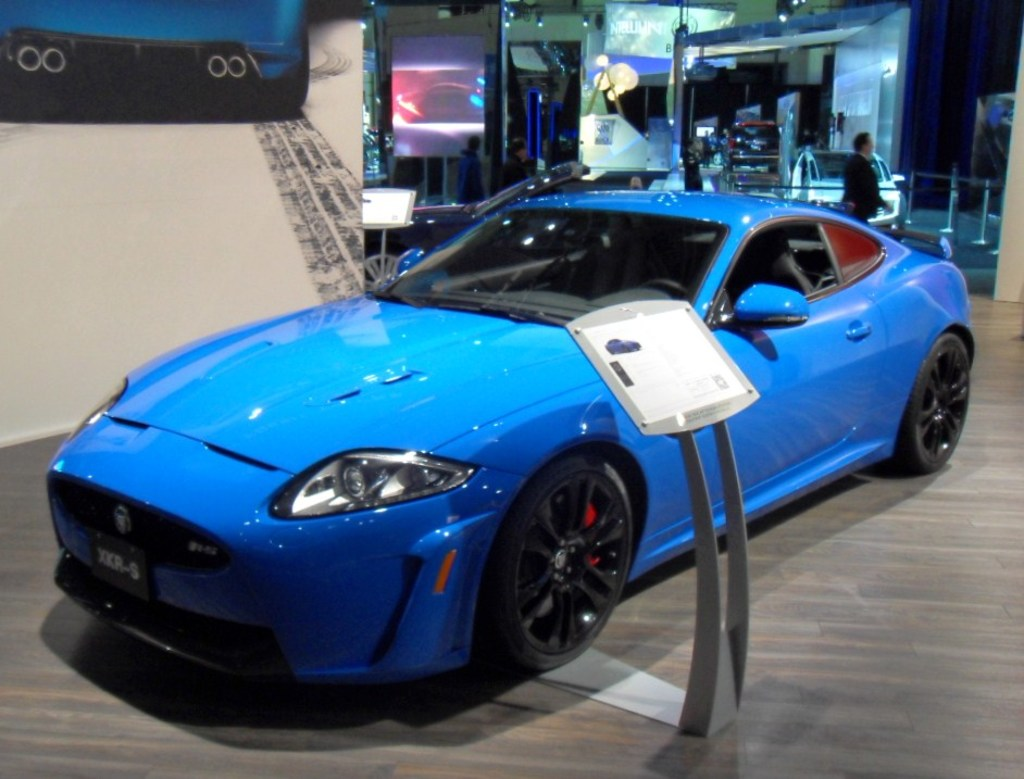Car: (35, 168, 965, 710), (798, 152, 906, 233), (733, 123, 780, 174)
